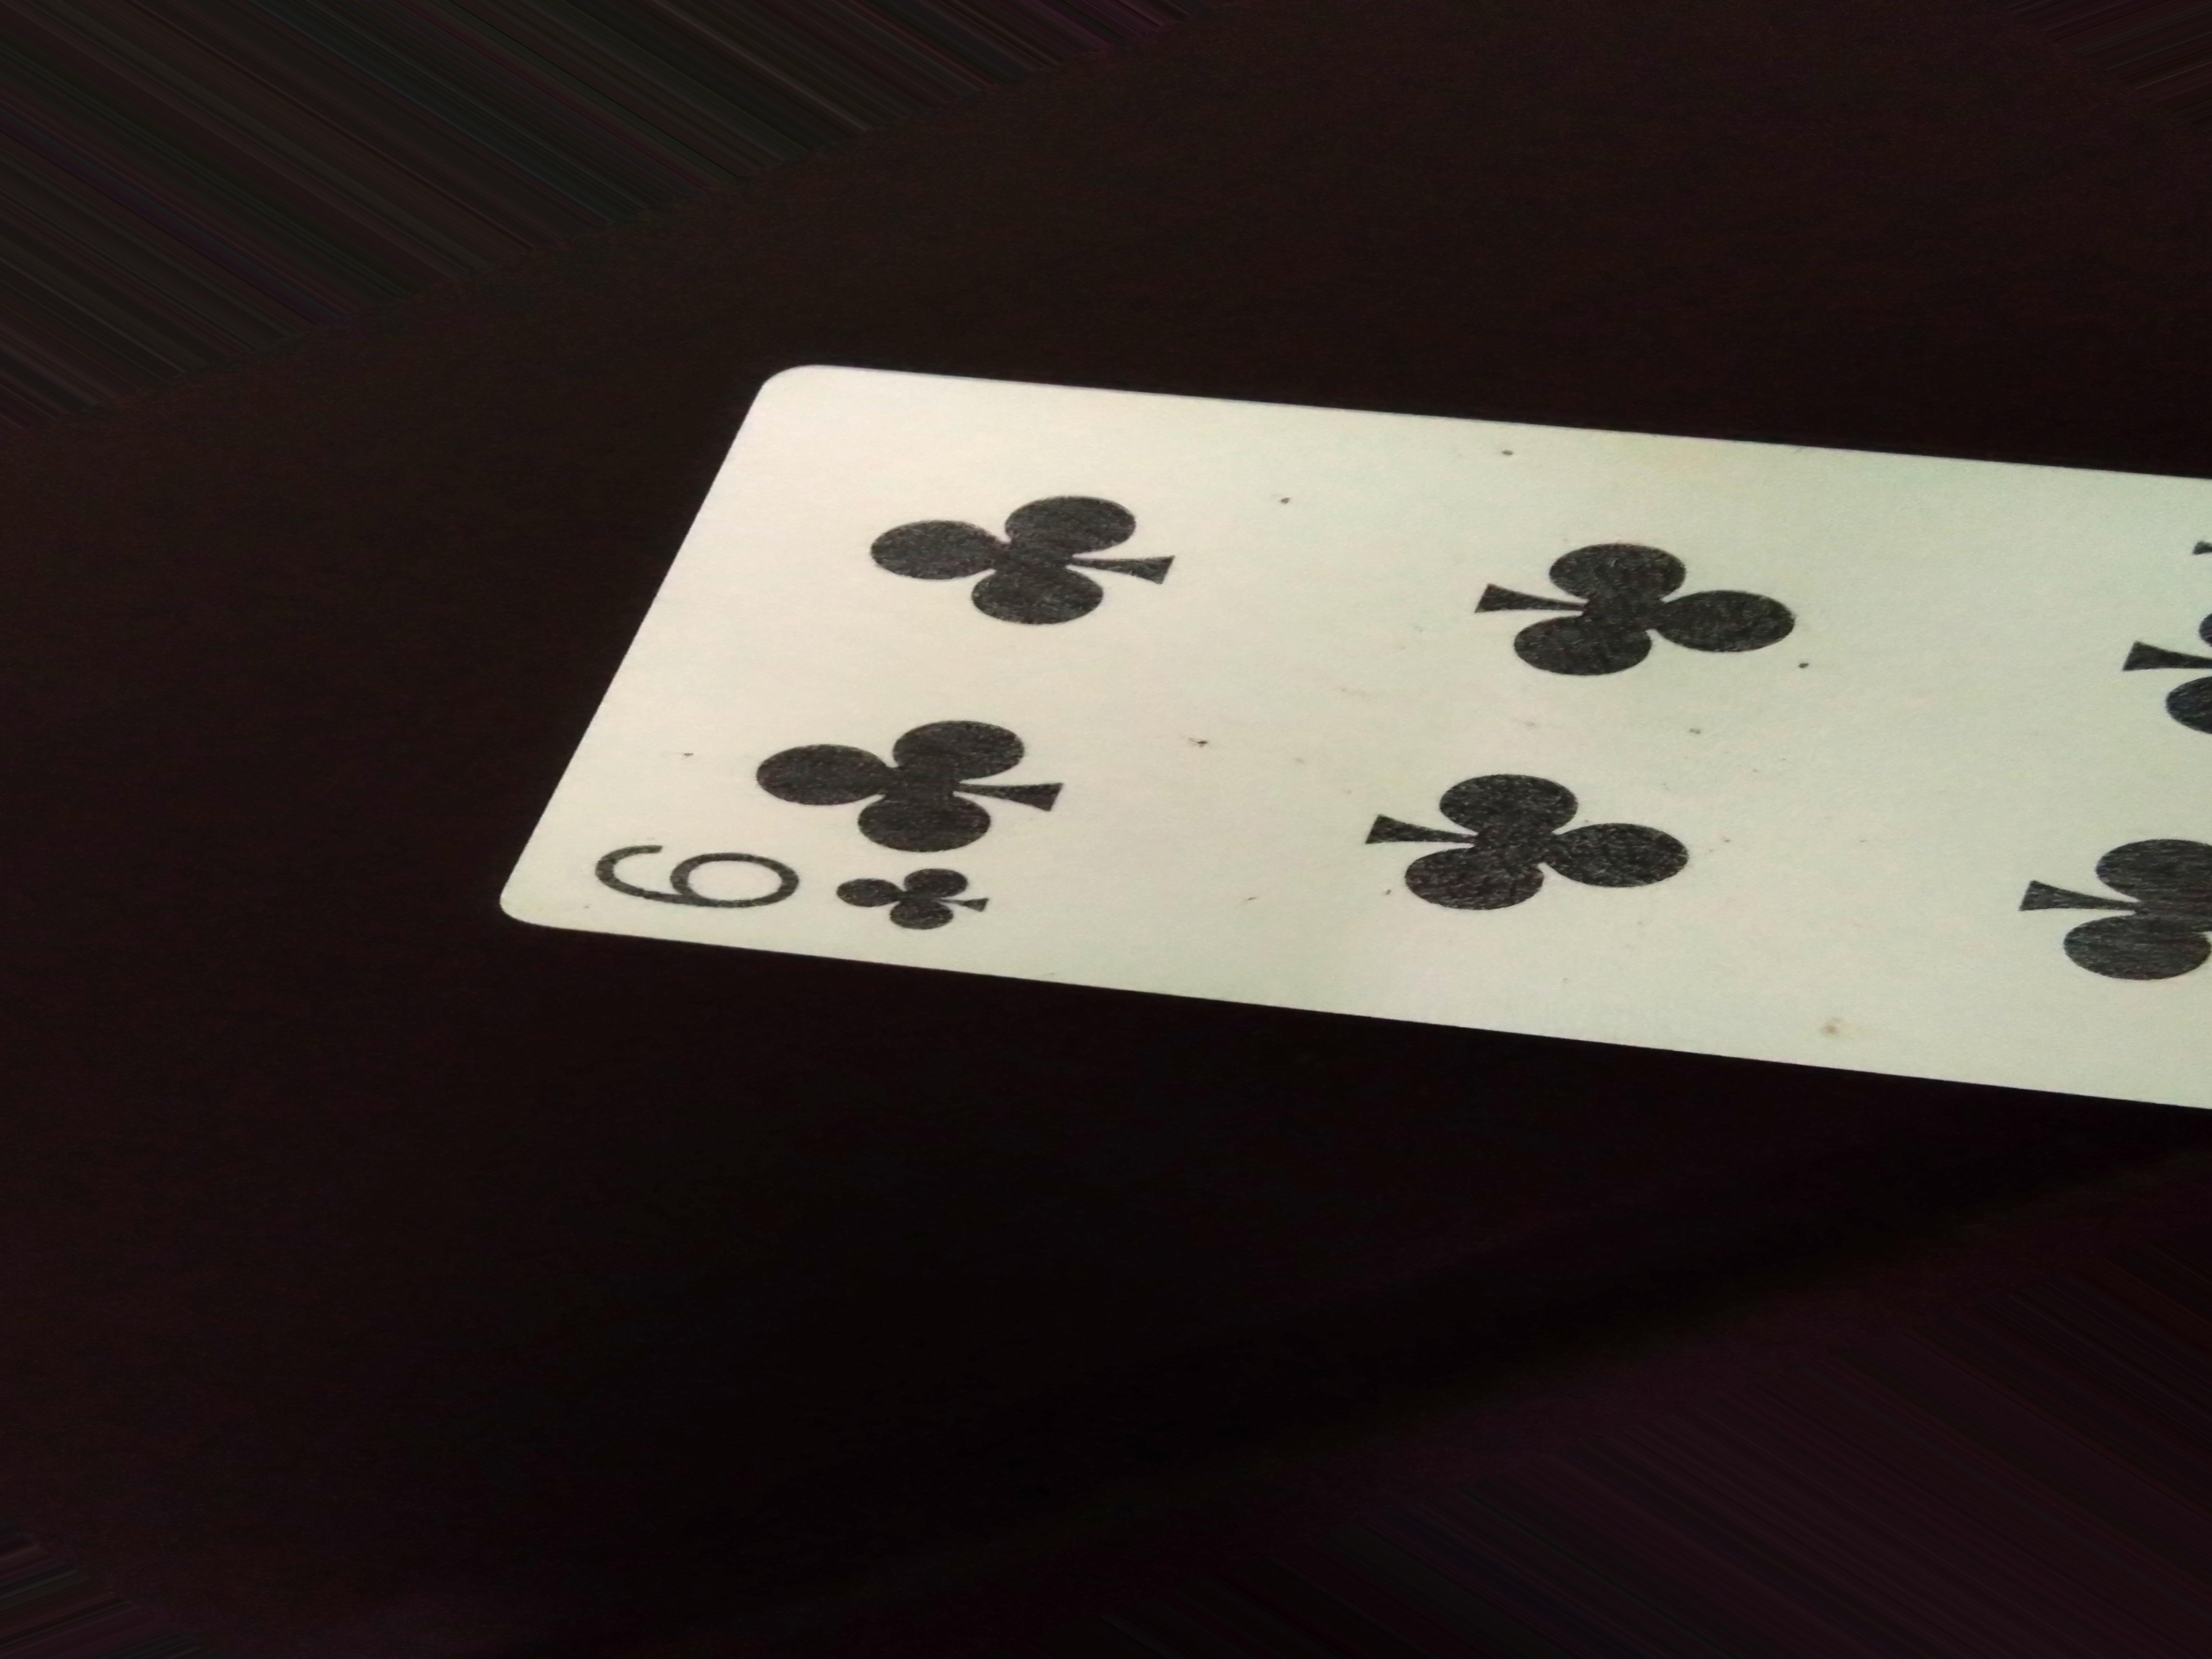6C: (587, 829, 1029, 941)
